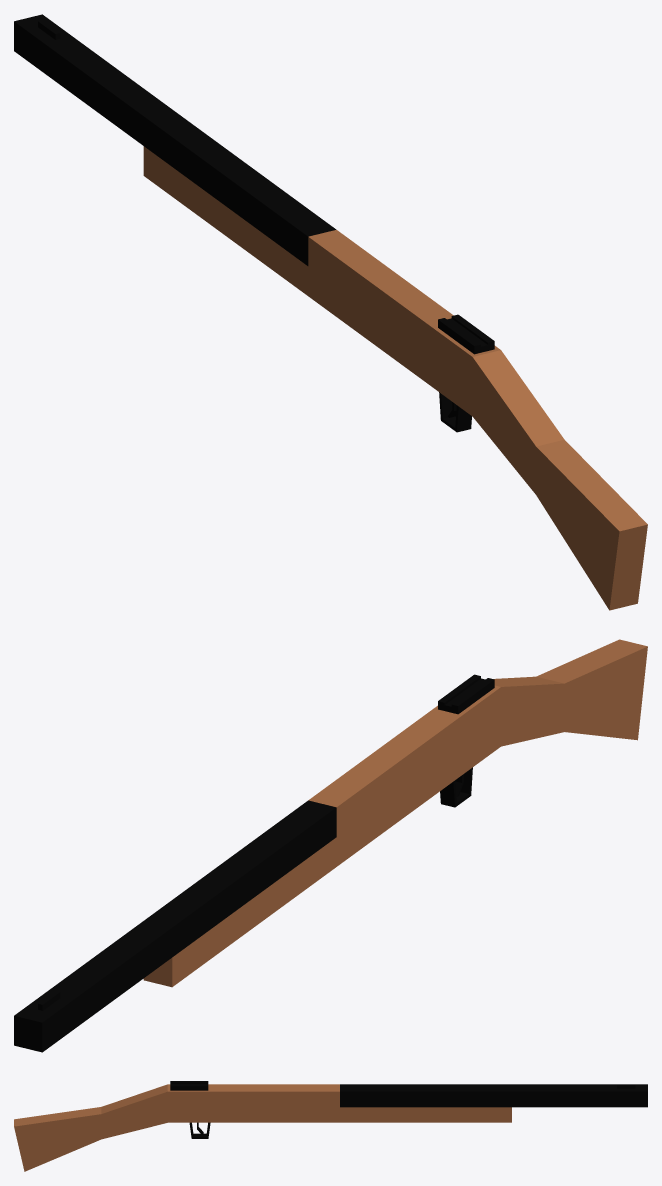
The model's file is bulletWeapon.obj.
3 views of the same model, one above another, from view 1: azimuth 30°, elevation 25°; view 2: azimuth 150°, elevation 25°; view 3: azimuth 270°, elevation 25° (orthographic). The views are drawn at different scales.
Visible parts, largest first — view 1: 立方体; view 2: 立方体; view 3: 立方体.
Part boxes in pixels (x1=…): 立方体: x1=14, y1=14, x2=647, y2=610; 立方体: x1=14, y1=639, x2=647, y2=1052; 立方体: x1=14, y1=1081, x2=647, y2=1171.
Bounding box in the file's own units: 0.2 × 1.08 × 7.36.
Materials: 1 (1 with a texture image).
